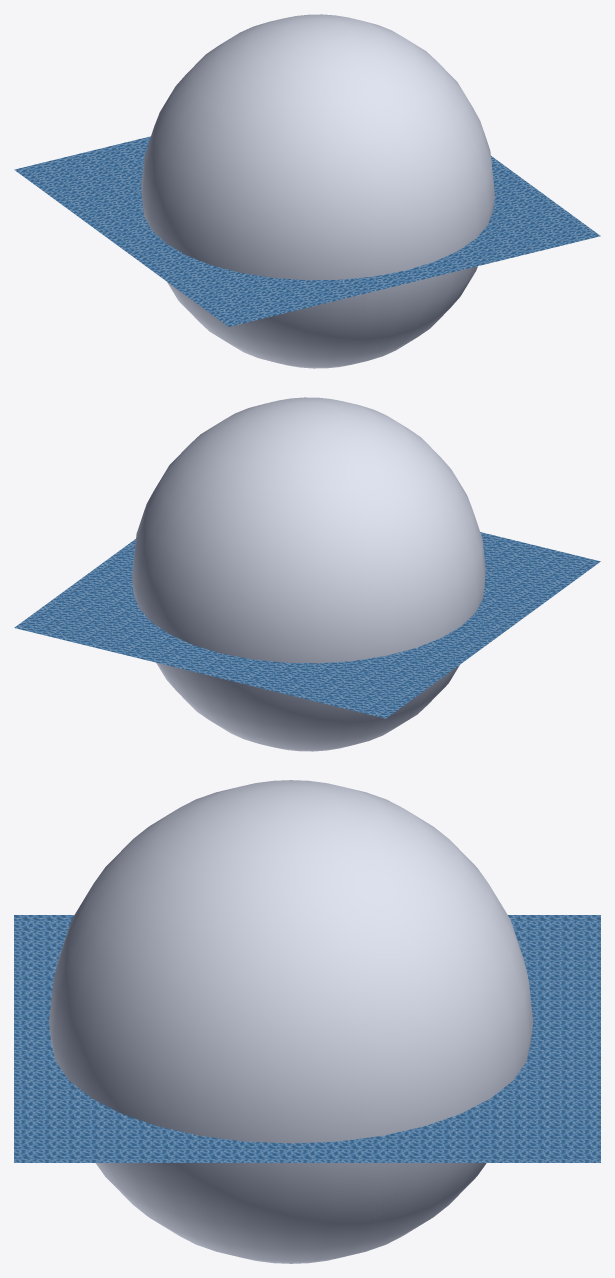
File: SceneLago.glb
3 renders of one model, top to bottom at view 1: azimuth 30°, elevation 25°; view 2: azimuth 150°, elevation 25°; view 3: azimuth 270°, elevation 25°, orthographic. The views are drawn at different scales.
Visible parts, largest first — view 1: Skydome, Water; view 2: Skydome, Water; view 3: Skydome, Water.
Boxes of the visible parts, left/top/right/bottom form: Skydome: left=141, top=14, right=494, bottom=368; Water: left=14, top=136, right=600, bottom=326; Skydome: left=132, top=397, right=485, bottom=751; Water: left=14, top=532, right=600, bottom=718; Skydome: left=49, top=780, right=533, bottom=1263; Water: left=14, top=915, right=600, bottom=1162.
Bounding box in the file's own units: 127 × 104 × 127.
22 materials, 19 textured.
